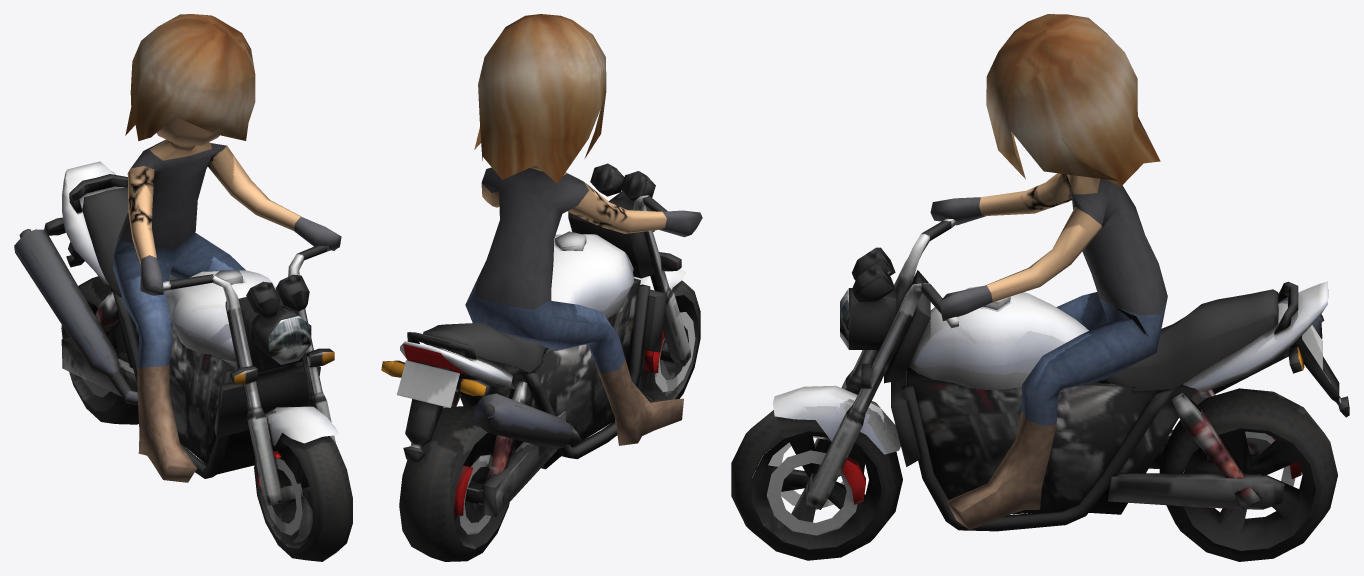
3 views of the same model, side by side, from view 1: azimuth 30°, elevation 25°; view 2: azimuth 150°, elevation 25°; view 3: azimuth 270°, elevation 25° (orthographic). The views are drawn at different scales.
Parts seen in each view (by area): view 1: cb1300-body, cb1300-rider, skin, cb1300-front-tyre, cb1300-rear-tyre; view 2: cb1300-rider, cb1300-body, cb1300-rear-tyre, skin, cb1300-front-tyre; view 3: cb1300-body, cb1300-rider, skin, cb1300-rear-tyre, cb1300-front-tyre.
Boxes of the visible parts, bbox=[...] form: cb1300-body: bbox=[14, 174, 339, 535]; cb1300-rider: bbox=[113, 14, 341, 482]; skin: bbox=[62, 161, 339, 445]; cb1300-front-tyre: bbox=[254, 427, 352, 561]; cb1300-rear-tyre: bbox=[61, 276, 138, 424]; cb1300-rider: bbox=[465, 14, 702, 445]; cb1300-body: bbox=[381, 163, 695, 534]; cb1300-rear-tyre: bbox=[399, 406, 515, 561]; skin: bbox=[400, 234, 686, 387]; cb1300-front-tyre: bbox=[637, 280, 700, 401]; cb1300-body: bbox=[766, 218, 1349, 535]; cb1300-rider: bbox=[930, 14, 1167, 529]; skin: bbox=[773, 281, 1328, 454]; cb1300-rear-tyre: bbox=[1159, 388, 1337, 561]; cb1300-front-tyre: bbox=[731, 410, 902, 560].
Size of the model in its own units: 0.9061 by 2.01 by 2.1.
